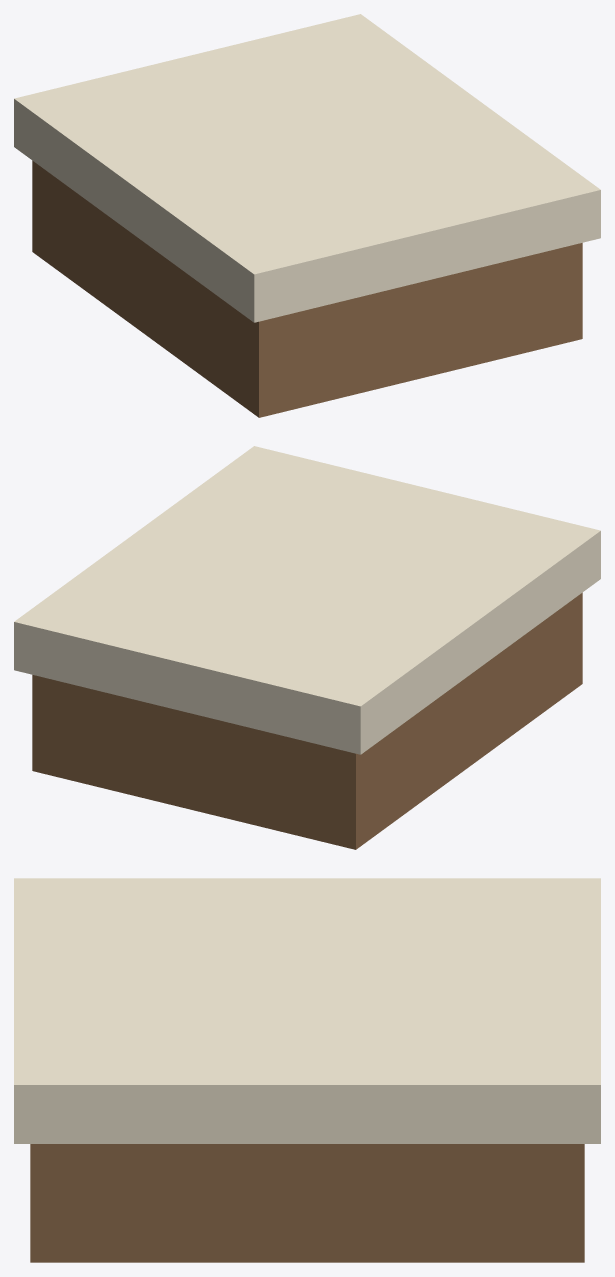
Rendered from polar_pe.glb.
3 views of the same model, one above another, from view 1: azimuth 30°, elevation 25°; view 2: azimuth 150°, elevation 25°; view 3: azimuth 270°, elevation 25° (orthographic). The views are drawn at different scales.
Parts seen in each view (by area): view 1: polar_pe; view 2: polar_pe; view 3: polar_pe.
Part boxes in pixels (left/top/right/bottom): polar_pe: left=14, top=14, right=600, bottom=417; polar_pe: left=14, top=446, right=600, bottom=849; polar_pe: left=14, top=878, right=600, bottom=1262.
Bounding box in the file's own units: 0.3 × 0.125 × 0.36.
